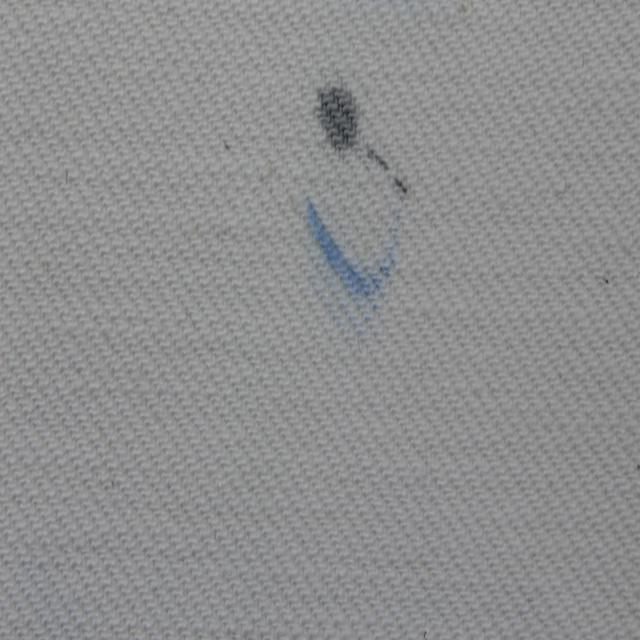stain: (313, 185, 398, 311), (313, 82, 363, 158), (368, 146, 391, 173), (390, 174, 411, 194)
